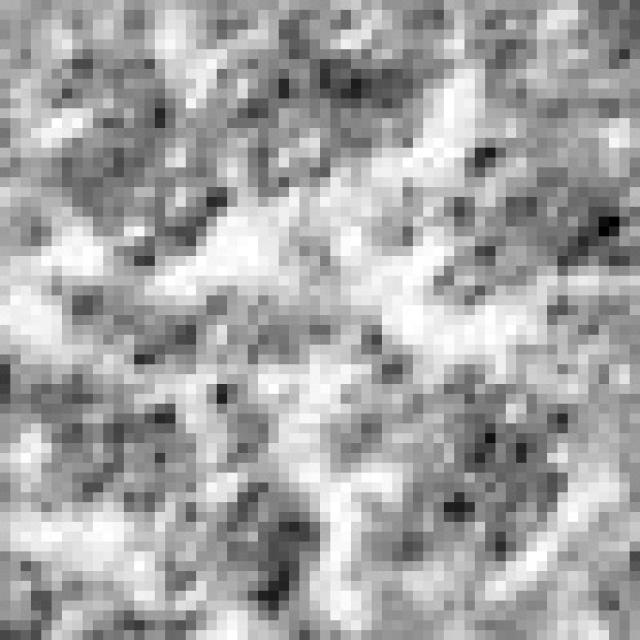inner: (122, 240, 424, 477)
lobe: (370, 366, 580, 566), (210, 18, 432, 204), (48, 60, 236, 271), (435, 140, 626, 308), (29, 371, 209, 530), (167, 482, 326, 623)
outer: (0, 0, 640, 640)
